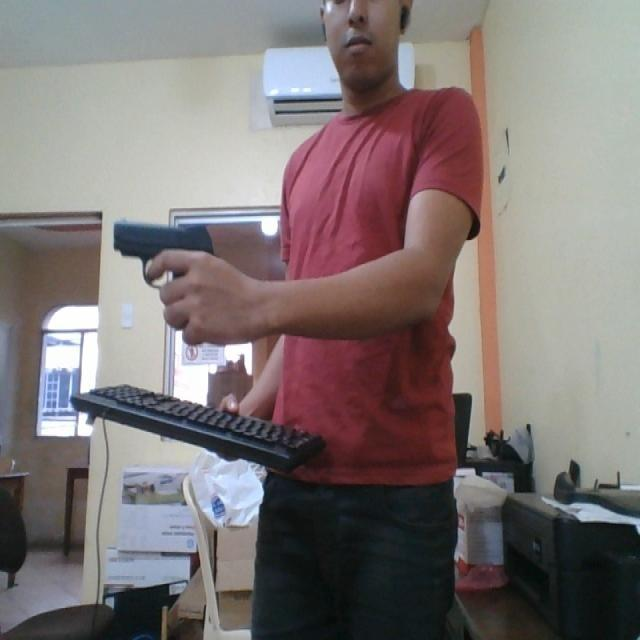weapon: (106, 208, 220, 302)
